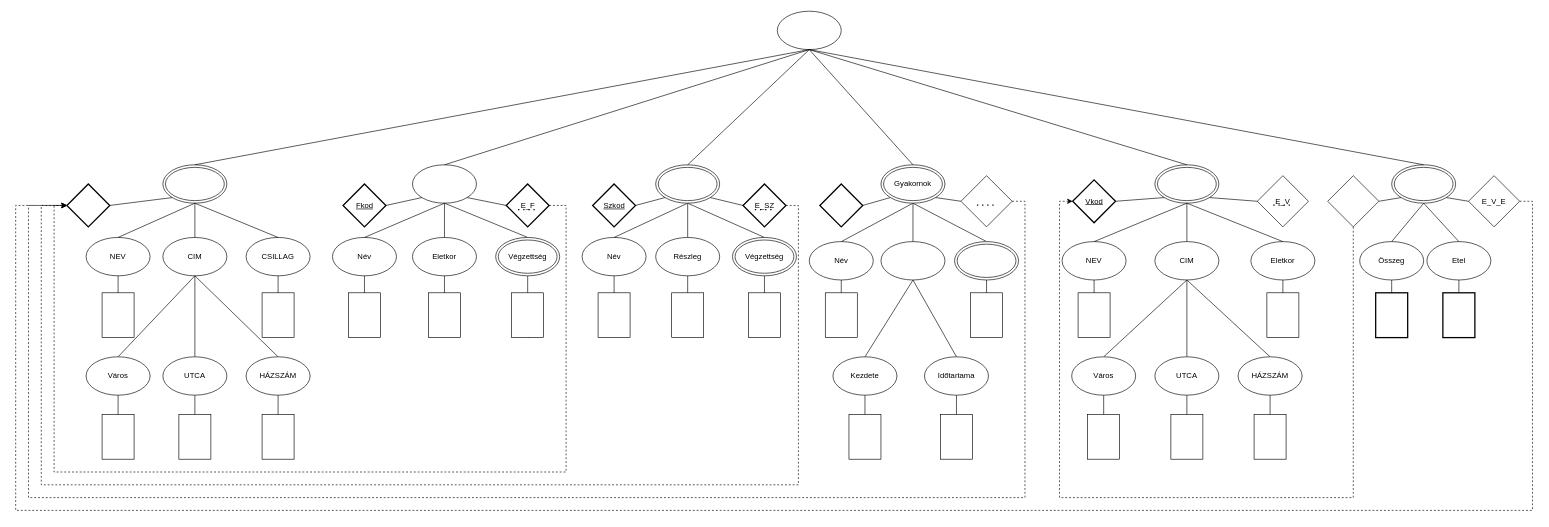
This 1549x527 diagram has some shape labels left out. Here are the shapes that lost their labels. From the top down, the box of each, then its label:
(777, 11, 841, 50): VENDÉGLÁTÁS
(162, 164, 227, 203): ETTEREM
(412, 164, 476, 203): Főszakács
(655, 164, 720, 203): Szakács
(960, 175, 1012, 227): E_GY
(1154, 164, 1219, 203): Vendég
(1327, 175, 1379, 227): E_V_V
(1391, 164, 1456, 203): Rendelés
(66, 183, 110, 227): EKOD
(819, 183, 863, 227): GYkod
(880, 241, 945, 280): Gyakorlat
(954, 241, 1019, 280): műszak
